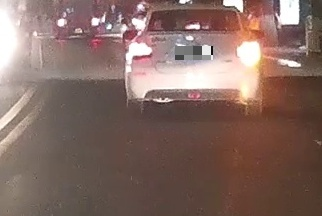L_light: (127, 41, 153, 60)
R_light: (237, 41, 261, 59)
T_light: (184, 23, 206, 30)
night-right: (123, 3, 264, 117)
plate_1: (175, 46, 213, 60)
